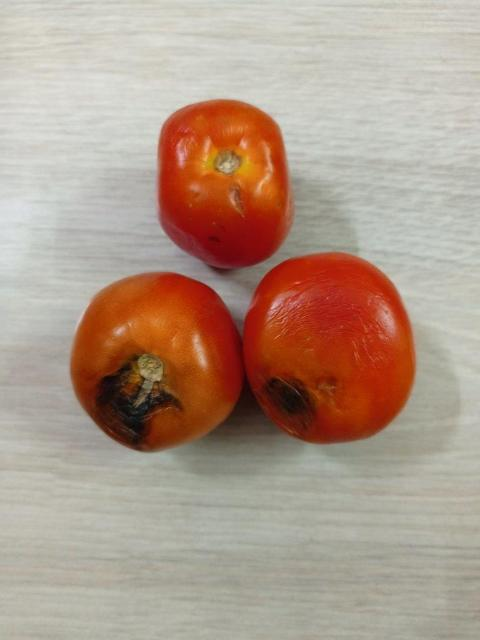defect: (61, 266, 241, 458), (242, 253, 419, 444), (152, 92, 297, 267)
